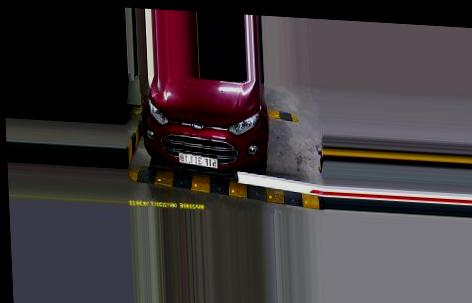License_Plate: (180, 151, 219, 168)
